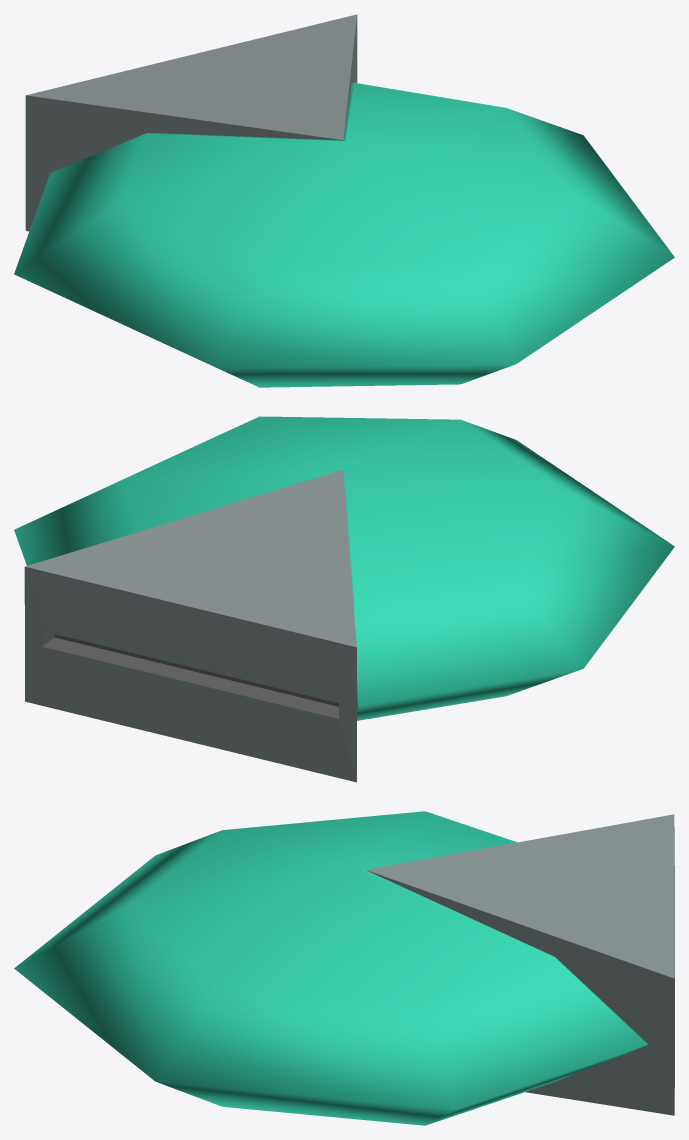
File: Ship.obj
The picture shows the model from 3 angles, top to bottom: view 1: azimuth 30°, elevation 25°; view 2: azimuth 150°, elevation 25°; view 3: azimuth 270°, elevation 25°; orthographic projection.
Visible parts, largest first — view 1: N-Gon1_copy3, N-Gon1; view 2: N-Gon1_copy3, N-Gon1; view 3: N-Gon1_copy3, N-Gon1.
Boxes of the visible parts, x1,y1,x2,y2 form: N-Gon1_copy3: (14, 82, 674, 387); N-Gon1: (25, 14, 357, 231); N-Gon1_copy3: (14, 416, 674, 720); N-Gon1: (24, 469, 356, 782); N-Gon1_copy3: (14, 811, 647, 1125); N-Gon1: (365, 814, 674, 1115).
Size of the model in its own units: 1 by 0.3279 by 0.9898.
